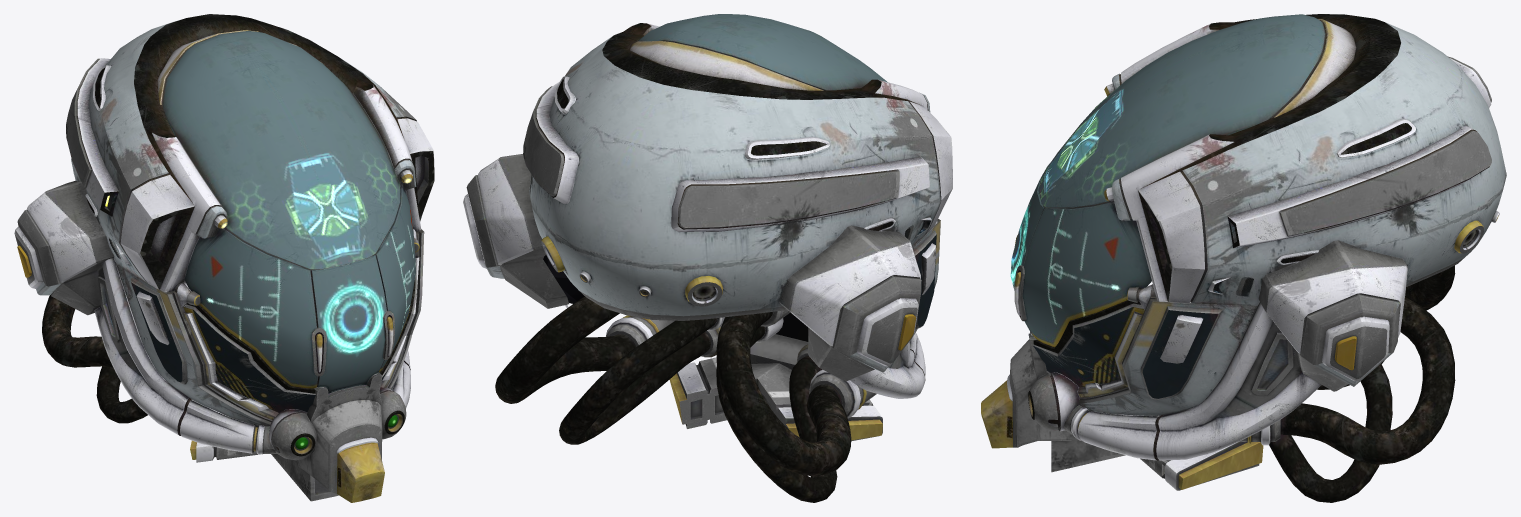
File: DamagedHelmet.glb
3 renders of one model, left to right at view 1: azimuth 30°, elevation 25°; view 2: azimuth 150°, elevation 25°; view 3: azimuth 270°, elevation 25°, orthographic. The views are drawn at different scales.
Visible parts, largest first — view 1: node_damagedHelmet_-6514; view 2: node_damagedHelmet_-6514; view 3: node_damagedHelmet_-6514.
Boxes of the visible parts, <box> form: node_damagedHelmet_-6514: <box>14,14,434,502</box>; node_damagedHelmet_-6514: <box>463,14,952,502</box>; node_damagedHelmet_-6514: <box>981,14,1506,502</box>.
Bounding box in the file's own units: 1.89 × 1.8 × 2.
1 material, 1 textured.
